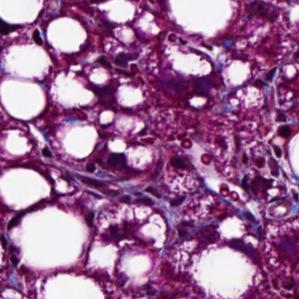inflammation: (95, 46, 150, 81), (273, 105, 294, 161), (104, 145, 132, 180), (166, 147, 194, 178), (30, 26, 49, 51)
